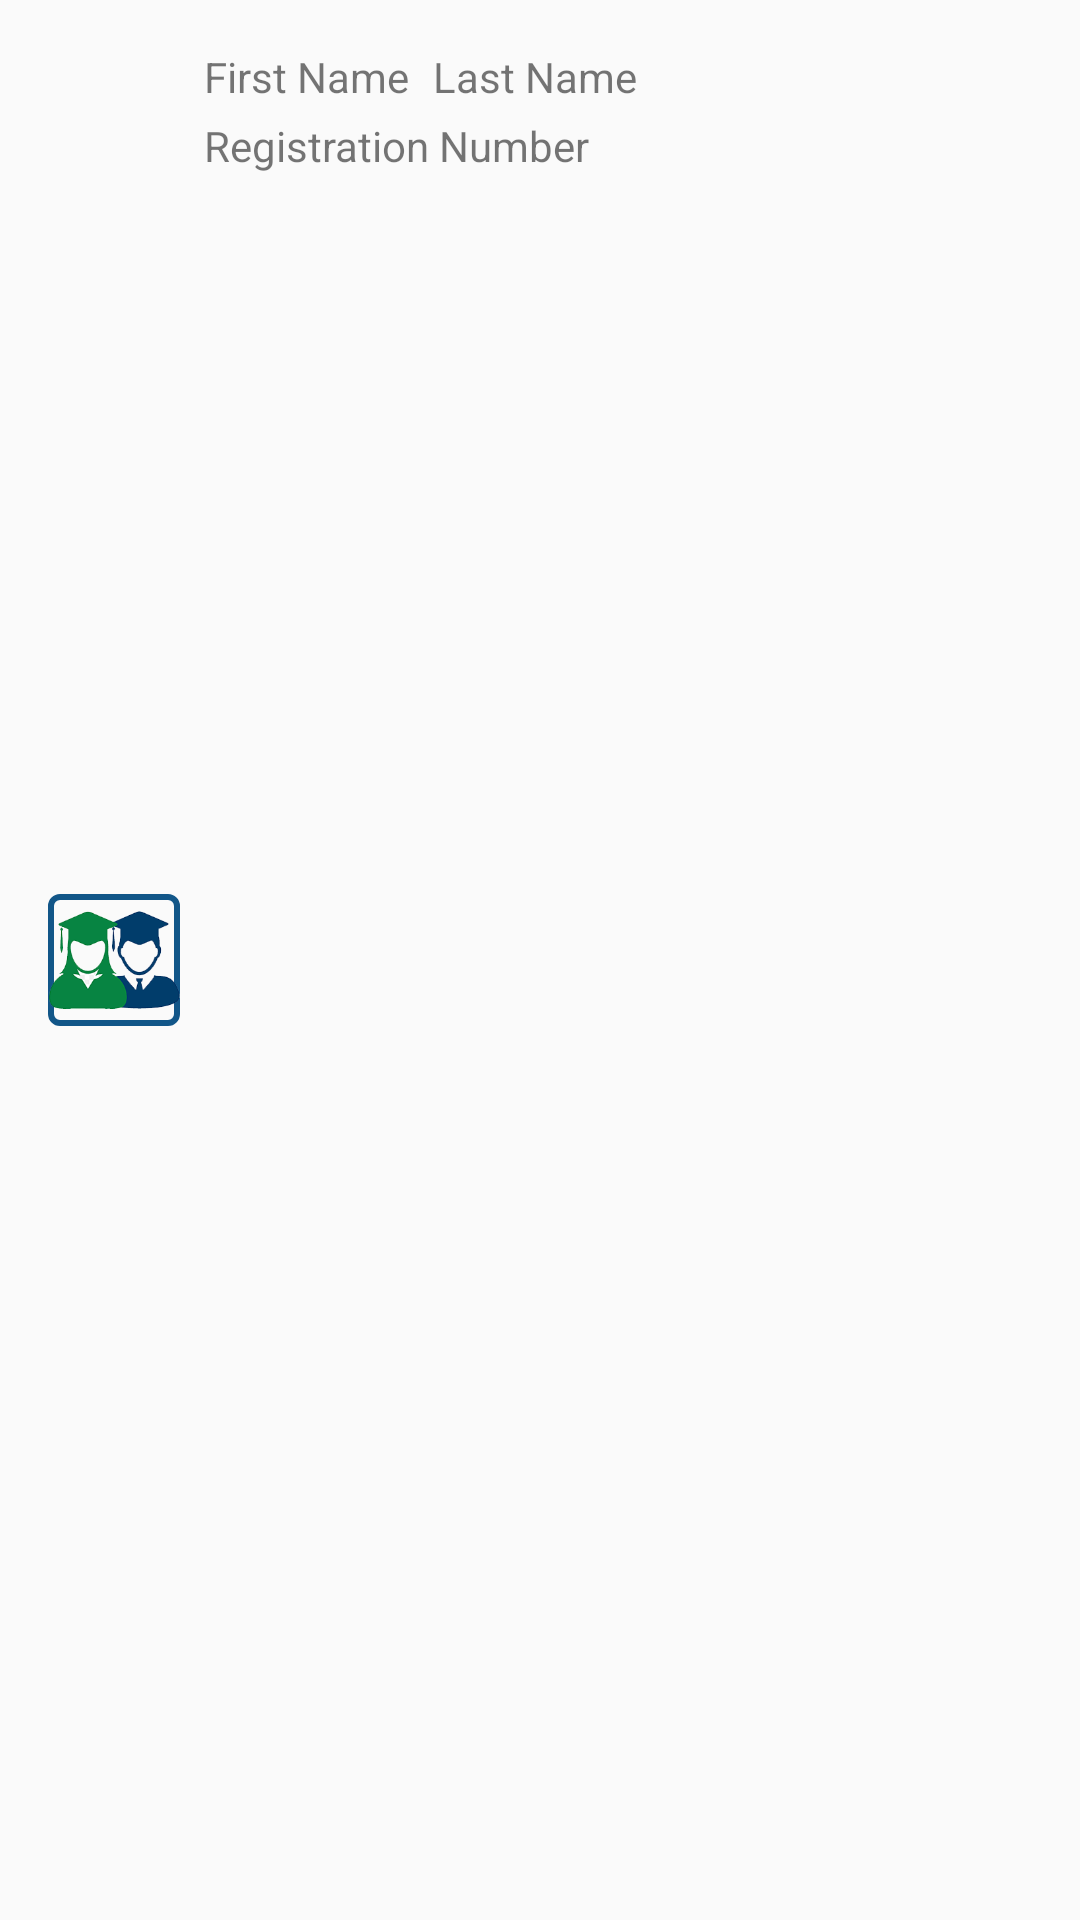

Named icons in this screenshot (1080 x 1920) and their bounding boxes, (x1, y1, x2, y2):
User Profile Image: (48, 894, 180, 1026)
